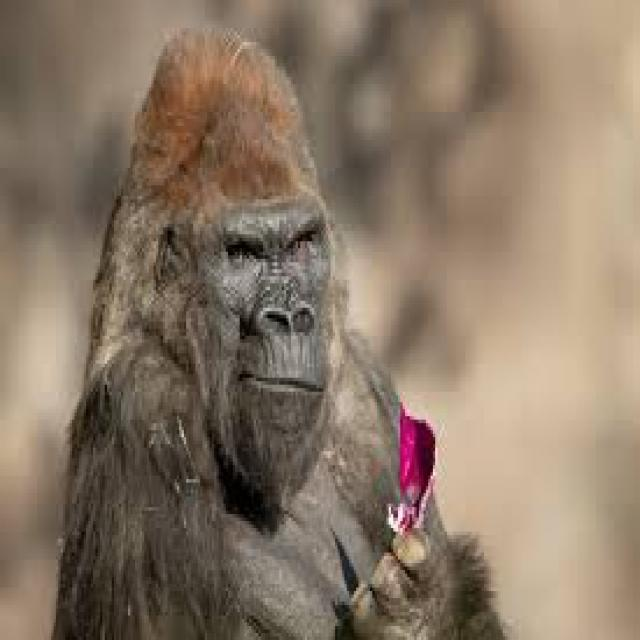Gorilla: (43, 18, 518, 640)
